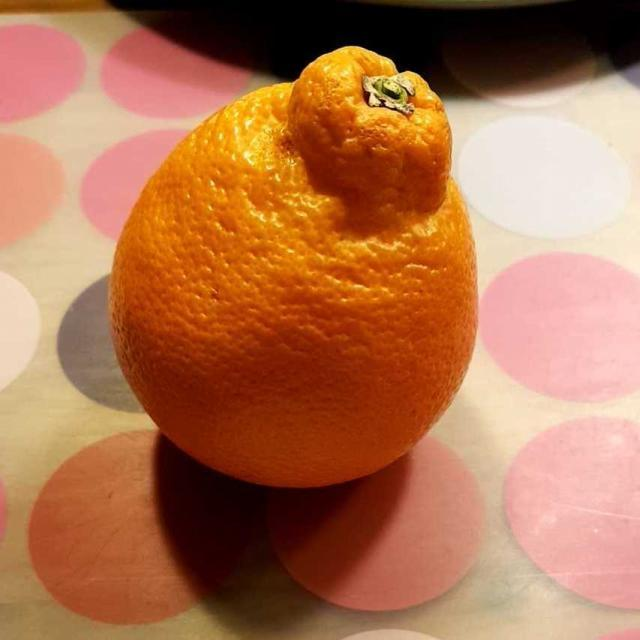orange: (113, 60, 471, 480)
